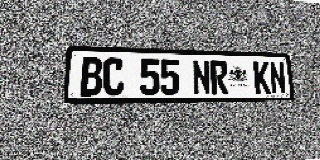5: (140, 58, 160, 95), (160, 59, 180, 95)
B: (80, 57, 103, 96)
C: (103, 58, 124, 96)
K: (253, 61, 271, 94)
N: (192, 60, 211, 95), (269, 62, 286, 94)
R: (210, 60, 228, 95)
